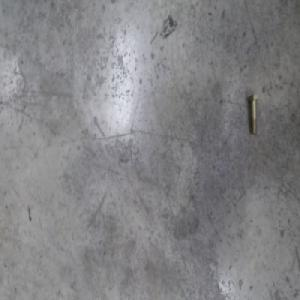Bolt: (248, 93, 259, 135)
